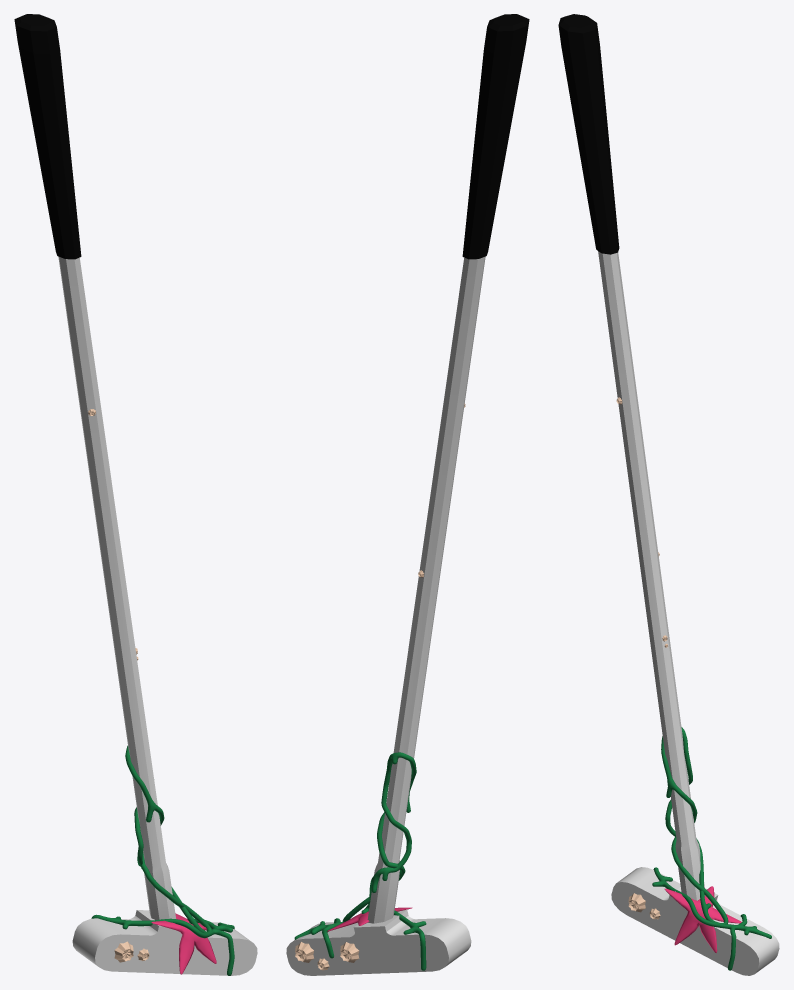
Rendered from Seaside Club.glb.
The picture shows the model from 3 angles, left to right: view 1: azimuth 30°, elevation 25°; view 2: azimuth 150°, elevation 25°; view 3: azimuth 330°, elevation 25°; orthographic projection. The views are drawn at different scales.
Visible parts, largest first — view 1: Seaside Club.001; view 2: Seaside Club.001; view 3: Seaside Club.001.
Part boxes in pixels (x1,y1,x2,y2): Seaside Club.001: [14, 14, 257, 975]; Seaside Club.001: [286, 14, 529, 975]; Seaside Club.001: [558, 14, 779, 975].
Size of the model in its own units: 0.2285 by 0.9469 by 0.06.
